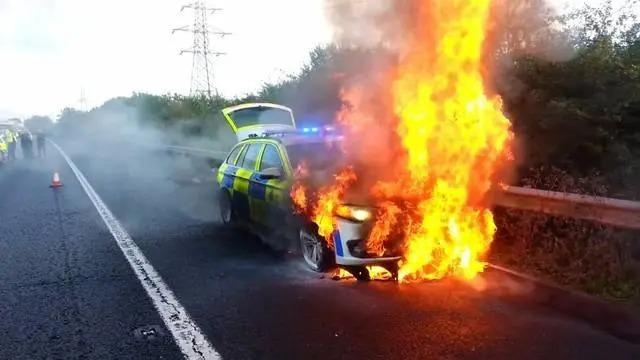fire: (291, 0, 519, 280)
